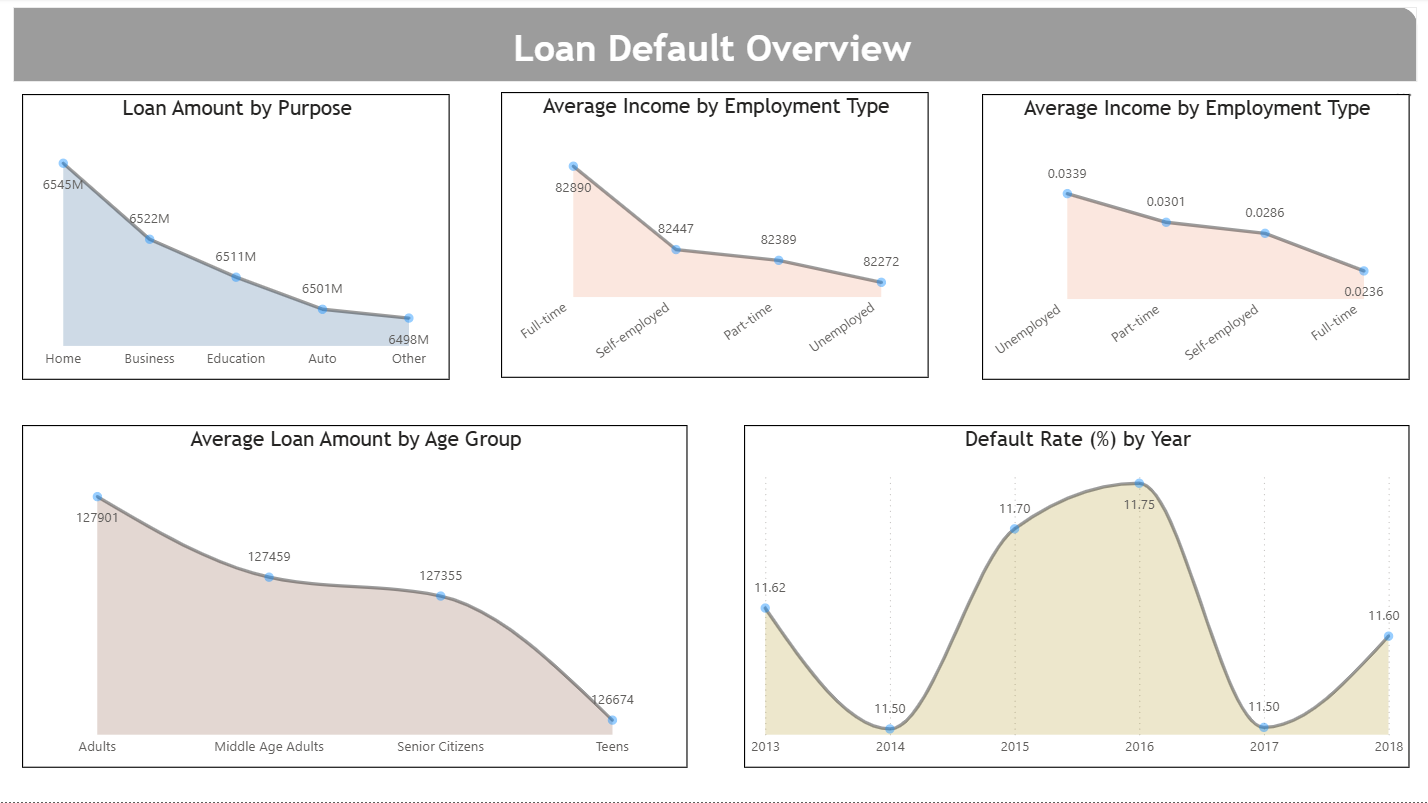

The page's visual inventory and layout, read from the dashboard file:
{"tool":"powerbi","page":{"name":"Loan Default Overview","canvas":[1280,720],"ordinal":0},"visuals":[{"type":"shape","box":[11.7,7.8,1257.6,67.1],"z":0},{"type":"lineChart","title":"Loan Amount by Purpose","fields":{"Category":["Loan_default.LoanPurpose"],"Y":["Measures (2).Loan Amount by Purpose"]},"box":[19.5,85.6,383.4,255.6],"z":1000},{"type":"lineChart","title":"Average Income by Employment Type","fields":{"Category":["Loan_default.EmploymentType"],"Y":["Loan_default.Average Income by Employment Type"]},"box":[448.9,84.6,383.4,255.6],"z":2000},{"type":"lineChart","title":"Average Loan Amount by Age Group","fields":{"Category":["Loan_default.Age Group"],"Y":["Loan_default.Average Loan Amount by Age Group"]},"box":[19.5,382.2,596.2,307.4],"z":3000},{"type":"lineChart","title":"Default Rate (%) by Year","fields":{"Category":["Loan_default.Year"],"Y":["Measures (2).Default Rate by Year"]},"box":[666.3,382.2,596.2,307.4],"z":4000},{"type":"lineChart","title":"Average Income by Employment Type","fields":{"Category":["Loan_default.EmploymentType"],"Y":["Measures Table 1.Default Rate by Employment Type"]},"box":[879.6,85.8,383.4,255.6],"z":5000}]}

Visuals, with their boxes in screenshot pixels (x1, y1, x2, y2), scaled from the page's 1280x720 canvas onto the 1428x803 screenshot:
shape: box=[13, 9, 1416, 84]
"Loan Amount by Purpose" lineChart: box=[22, 95, 449, 381]
"Average Income by Employment Type" lineChart: box=[501, 94, 929, 379]
"Average Loan Amount by Age Group" lineChart: box=[22, 426, 687, 769]
"Default Rate (%) by Year" lineChart: box=[743, 426, 1408, 769]
"Average Income by Employment Type" lineChart: box=[981, 96, 1409, 381]
